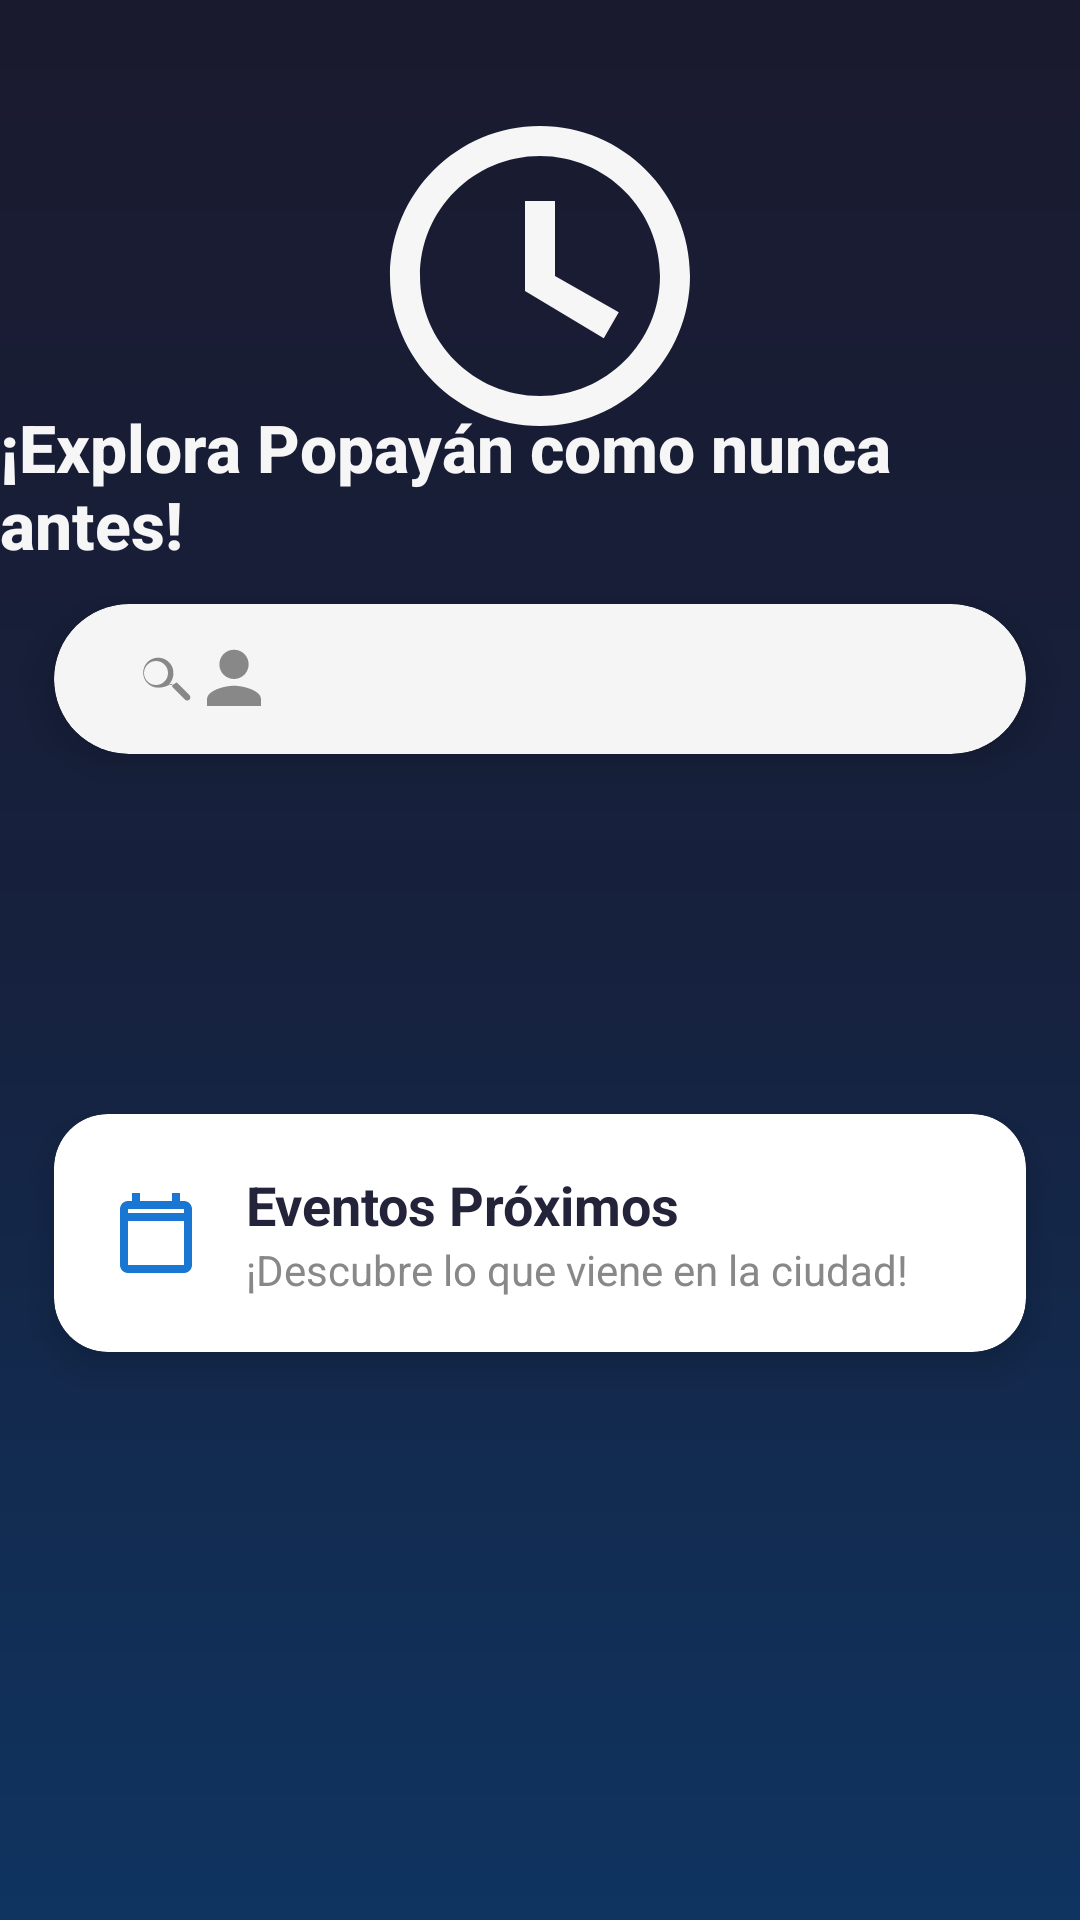

Where icons sit on this 1080px x 1920px app screen, as (x1, y1, x2, y2):
search: (143, 657, 191, 701)
user: (207, 649, 261, 706)
